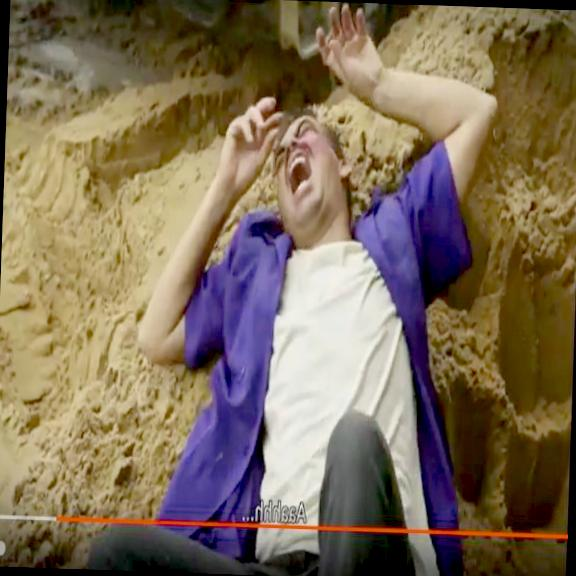no_safety_vest: (194, 194, 457, 538)
